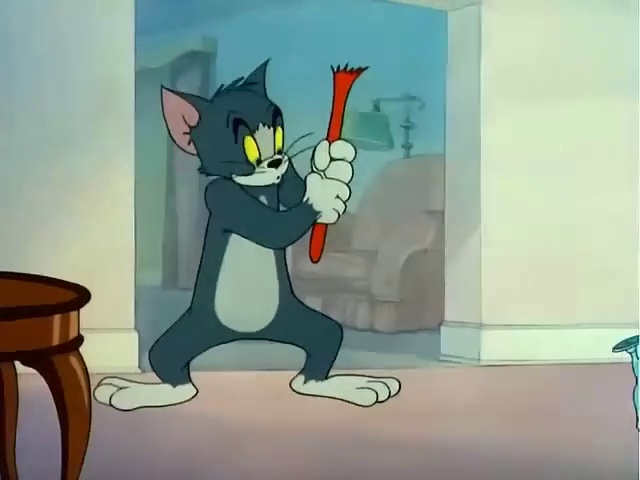tom: (93, 16, 446, 429)
